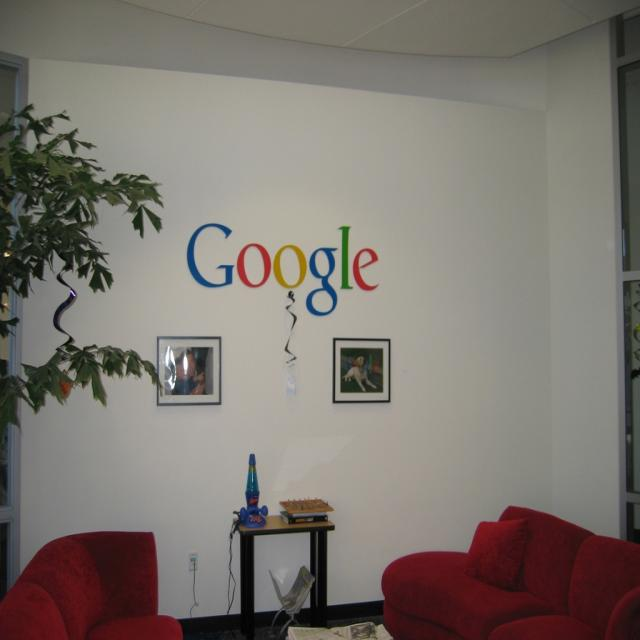google: (180, 214, 386, 321)
